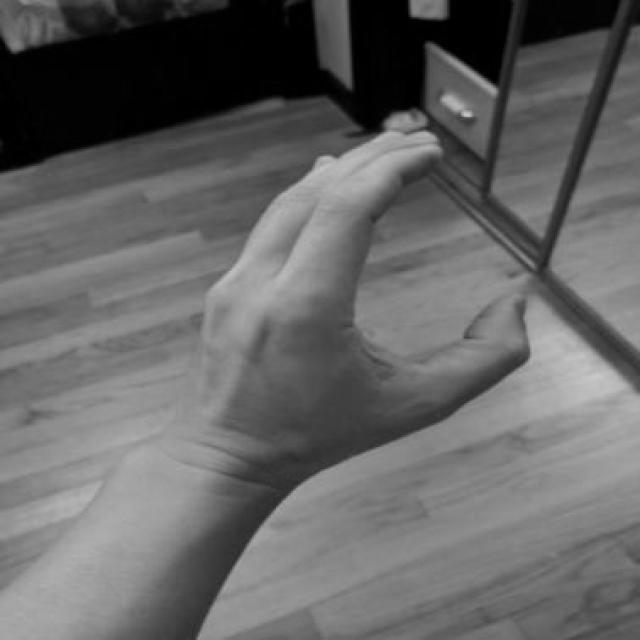C: (140, 118, 551, 490)
